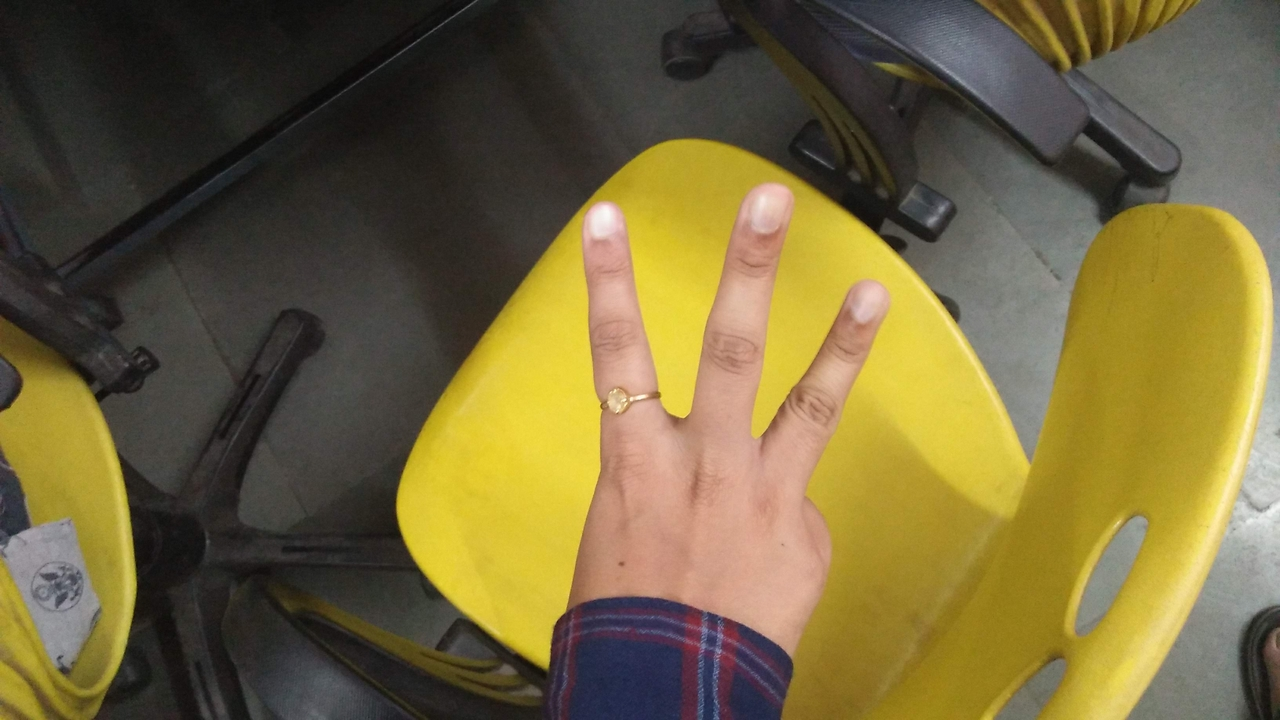fingertip: (730, 176, 800, 246), (832, 272, 898, 336), (576, 196, 634, 258)
